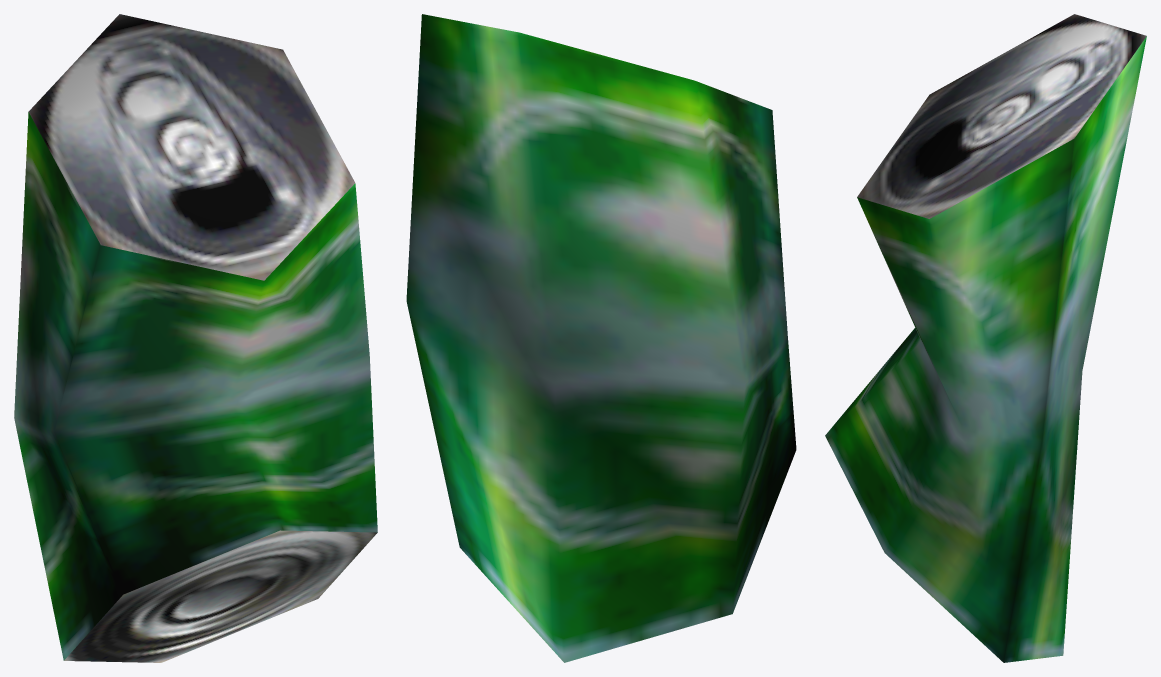
File: crushedcan.fbx
3 renders of one model, left to right at view 1: azimuth 30°, elevation 25°; view 2: azimuth 150°, elevation 25°; view 3: azimuth 270°, elevation 25°, orthographic. The views are drawn at different scales.
Parts seen in each view (by area): view 1: Can_4_Crushed; view 2: Can_4_Crushed; view 3: Can_4_Crushed.
Part boxes in pixels (bbox=[...]): Can_4_Crushed: bbox=[14, 14, 377, 662]; Can_4_Crushed: bbox=[406, 14, 796, 662]; Can_4_Crushed: bbox=[825, 14, 1146, 662].
Bounding box in the file's own units: 24.24 × 45.41 × 21.38.
